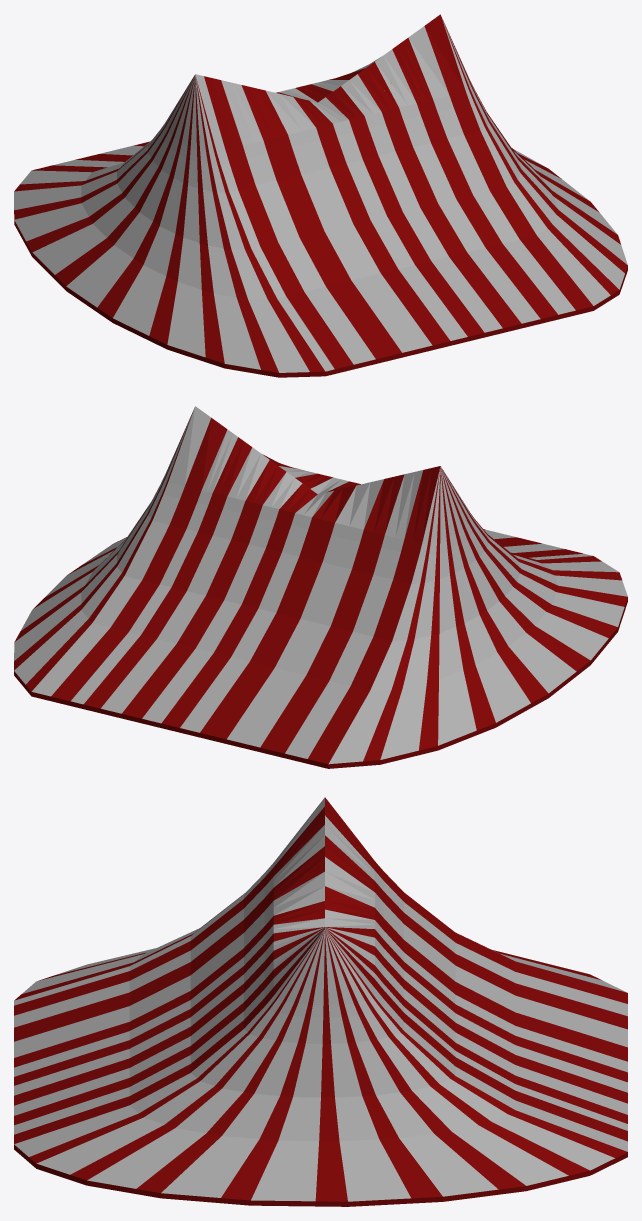
Rendered from Main-Tent-Top-new.fbx.
3 views of the same model, one above another, from view 1: azimuth 30°, elevation 25°; view 2: azimuth 150°, elevation 25°; view 3: azimuth 270°, elevation 25° (orthographic). The views are drawn at different scales.
Parts seen in each view (by area): view 1: polySurface130; view 2: polySurface130; view 3: polySurface130.
Boxes of the visible parts, <box> form: polySurface130: <box>14,14,627,377</box>; polySurface130: <box>14,406,627,768</box>; polySurface130: <box>14,797,627,1206</box>.
Size of the model in its own units: 65.36 by 25.34 by 65.61.
